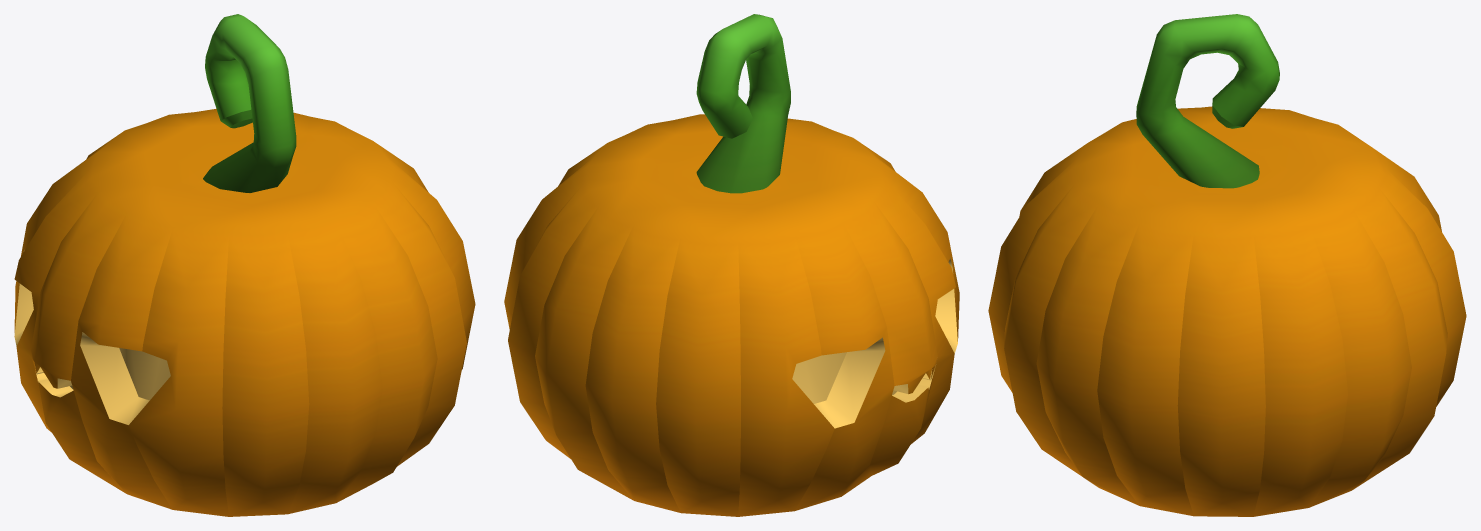
File: Pumpkin_2.glb
The picture shows the model from 3 angles, left to right: view 1: azimuth 30°, elevation 25°; view 2: azimuth 150°, elevation 25°; view 3: azimuth 270°, elevation 25°; orthographic projection. The views are drawn at different scales.
Parts seen in each view (by area): view 1: Pumpkin_2; view 2: Pumpkin_2; view 3: Pumpkin_2.
Boxes of the visible parts, bbox=[...] form: Pumpkin_2: bbox=[14, 14, 475, 516]; Pumpkin_2: bbox=[504, 14, 959, 516]; Pumpkin_2: bbox=[988, 14, 1466, 516].
Bounding box in the file's own units: 0.5353 × 0.5591 × 0.5386.
Materials: 1 (1 with a texture image).
